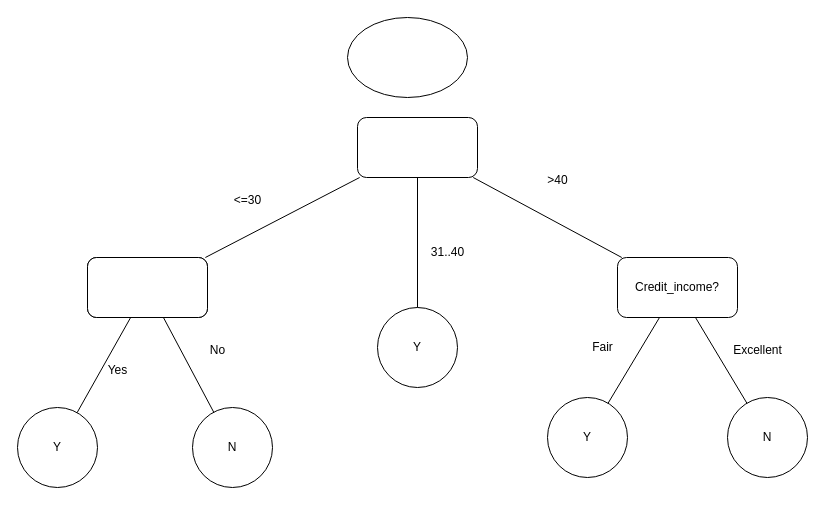
Some shapes in this 825 by 505 pixel diagram are drawn without their labels. The shapes that lost their labels are listed below. From the top down, each one's centre as x and y in pixels, then its label:
At pixel 407 57: "Buys_computer Yes(Y) or No(N)".
At pixel 417 147: "Age?".
At pixel 147 287: "Student?".
